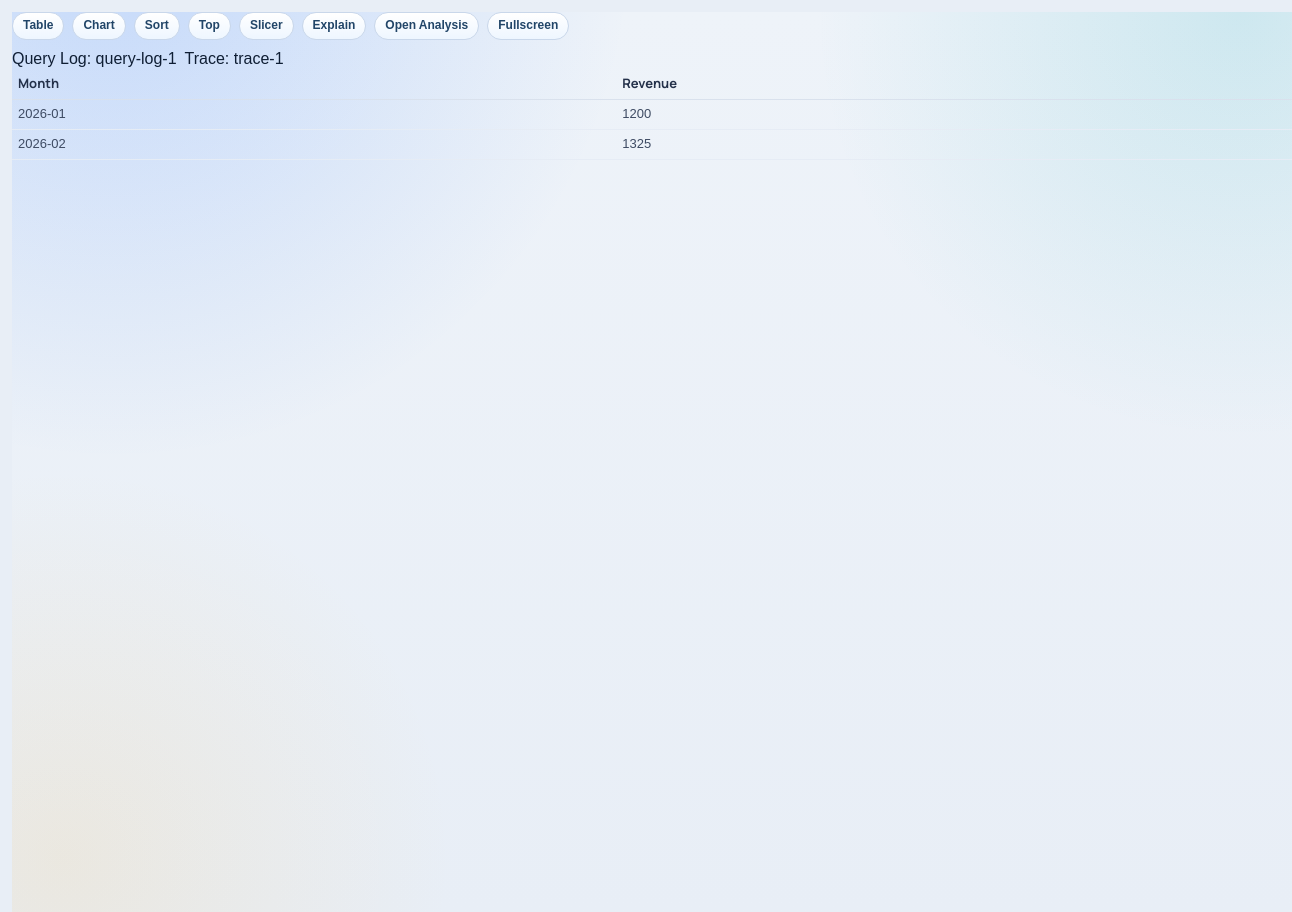
Test: interactive answer component actions › renders evidence and provenance deep links inside the explain drawer
The width and height of the screenshot is (1292, 912).
Click the button "Explain" at (334, 26), box [302, 12, 366, 40]
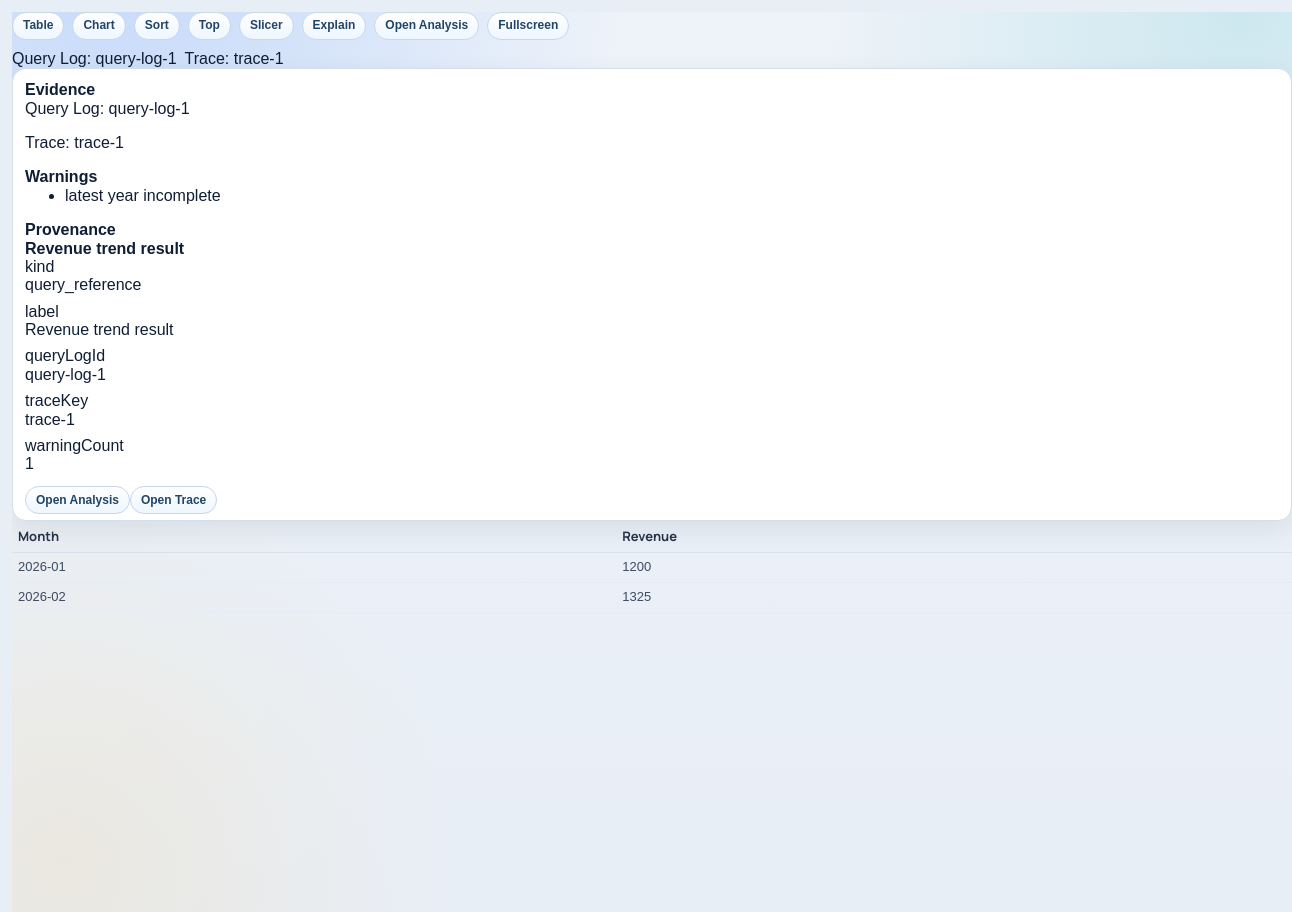
Check: the list item "latest year incomplete" is shown, box [65, 187, 221, 204]
Check: the text "query-log-1" is shown, box [25, 366, 106, 383]
Check: the text "trace-1" is shown, box [25, 411, 75, 428]
